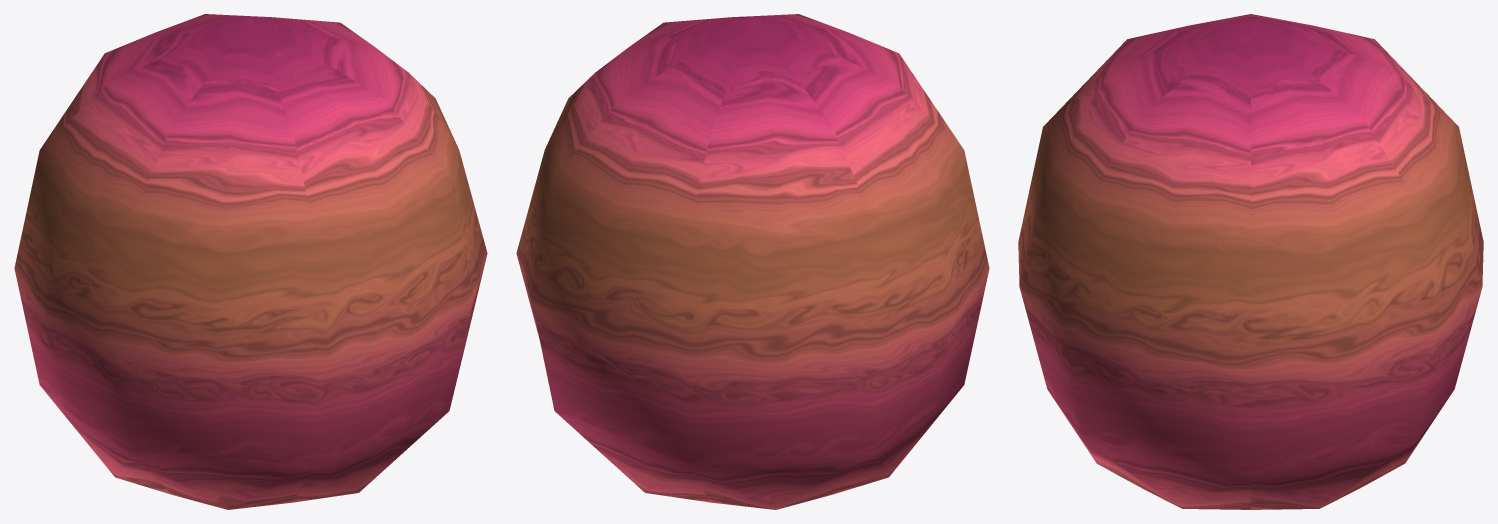
File: Planet1.fbx
3 views of the same model, side by side, from view 1: azimuth 30°, elevation 25°; view 2: azimuth 150°, elevation 25°; view 3: azimuth 270°, elevation 25° (orthographic).
Parts seen in each view (by area): view 1: pasted__pasted__pSphere3; view 2: pasted__pasted__pSphere3; view 3: pasted__pasted__pSphere3.
Boxes of the visible parts, box(x1,y1,x2,y2) form: pasted__pasted__pSphere3: box(14, 14, 487, 509); pasted__pasted__pSphere3: box(516, 14, 989, 509); pasted__pasted__pSphere3: box(1018, 14, 1483, 509).
Size of the model in its own units: 1.56 by 1.76 by 1.53.
1 material, 1 textured.
